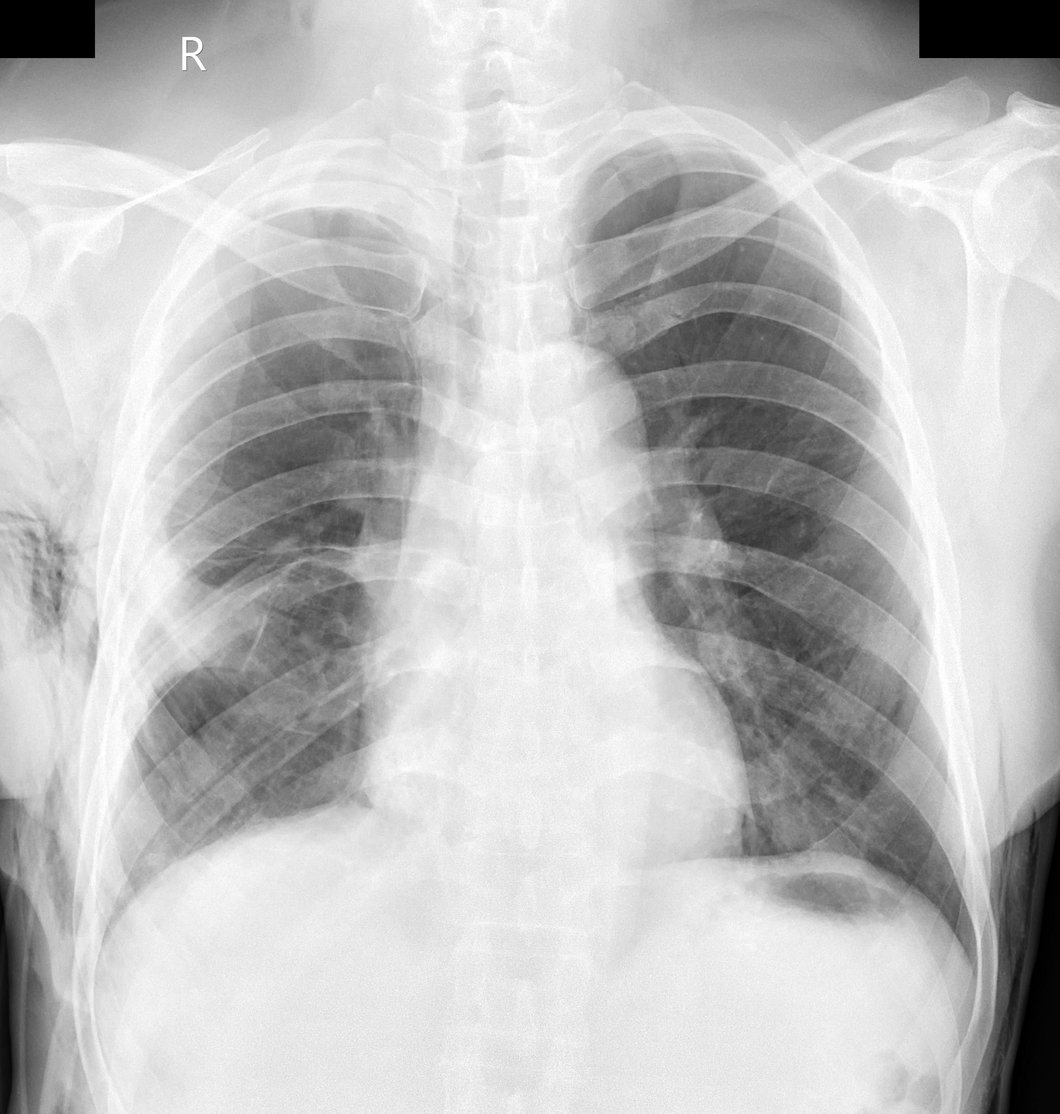Pleural thickening: (93, 354, 258, 863), (665, 120, 759, 167)
Pulmonary fibrosis: (157, 539, 362, 667), (296, 169, 400, 237)
